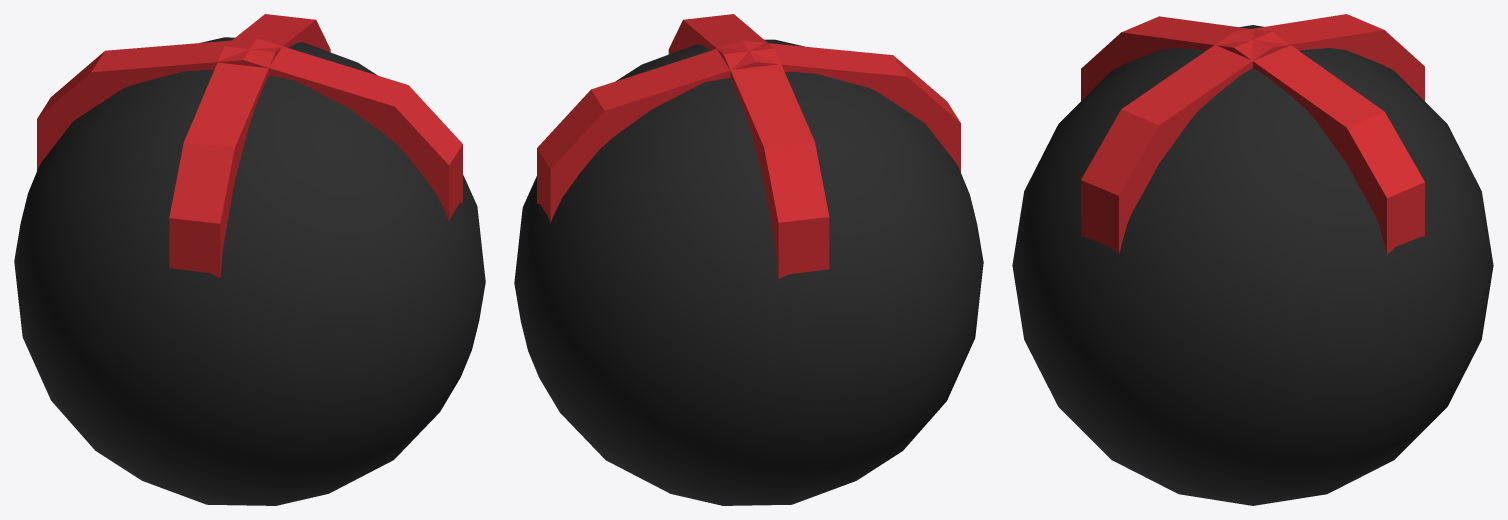
Rendered from Bomb.fbx.
3 renders of one model, left to right at view 1: azimuth 30°, elevation 25°; view 2: azimuth 150°, elevation 25°; view 3: azimuth 270°, elevation 25°, orthographic.
Visible parts, largest first — view 1: Icosphere; view 2: Icosphere; view 3: Icosphere.
Part boxes in pixels (x1=…): Icosphere: x1=14, y1=14, x2=485, y2=505; Icosphere: x1=514, y1=14, x2=983, y2=505; Icosphere: x1=1012, y1=14, x2=1493, y2=505.
Size of the model in its own units: 200 by 204 by 200.
